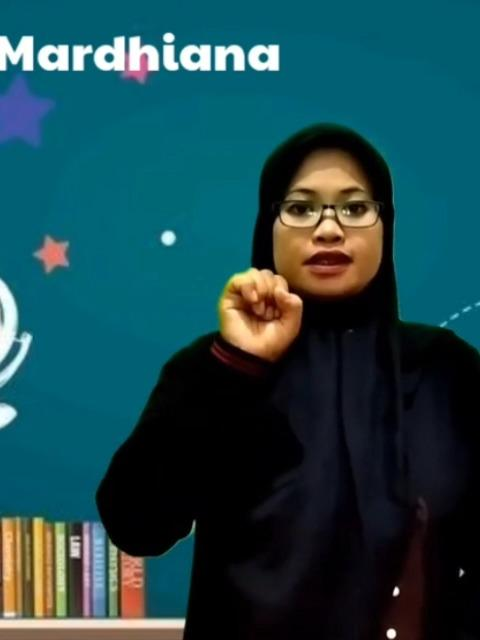S: (210, 260, 310, 358)
